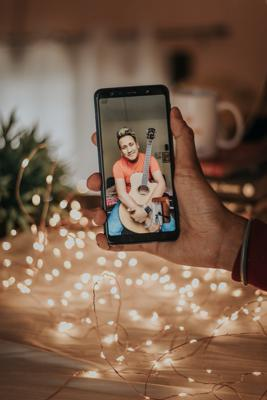cell-phone: (93, 88, 176, 240)
